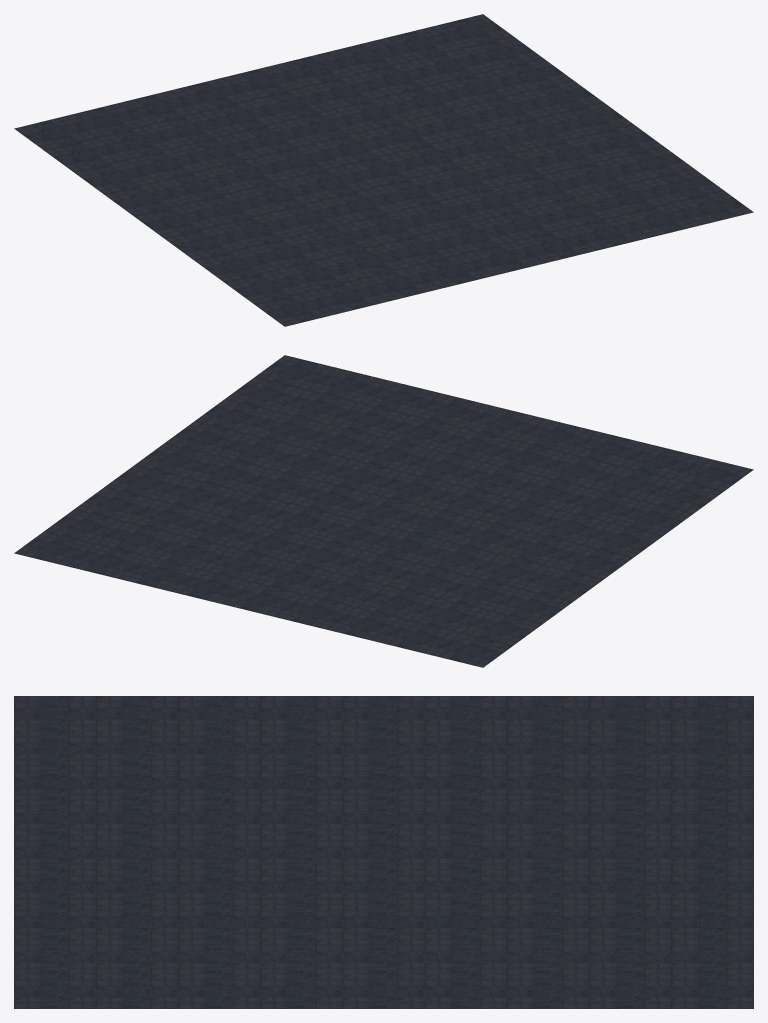
Rendered from Suelo.gltf.
The picture shows the model from 3 angles, top to bottom: view 1: azimuth 30°, elevation 25°; view 2: azimuth 150°, elevation 25°; view 3: azimuth 270°, elevation 25°; orthographic projection. The views are drawn at different scales.
Parts seen in each view (by area): view 1: Structural asset; view 2: Structural asset; view 3: Structural asset.
Part boxes in pixels (x1,y1,x2,y2): Structural asset: (14, 14, 753, 326); Structural asset: (14, 355, 753, 667); Structural asset: (14, 696, 753, 1008).
Size of the model in its own units: 244 by 3.04e-06 by 244.
Materials: 1 (1 with a texture image).
